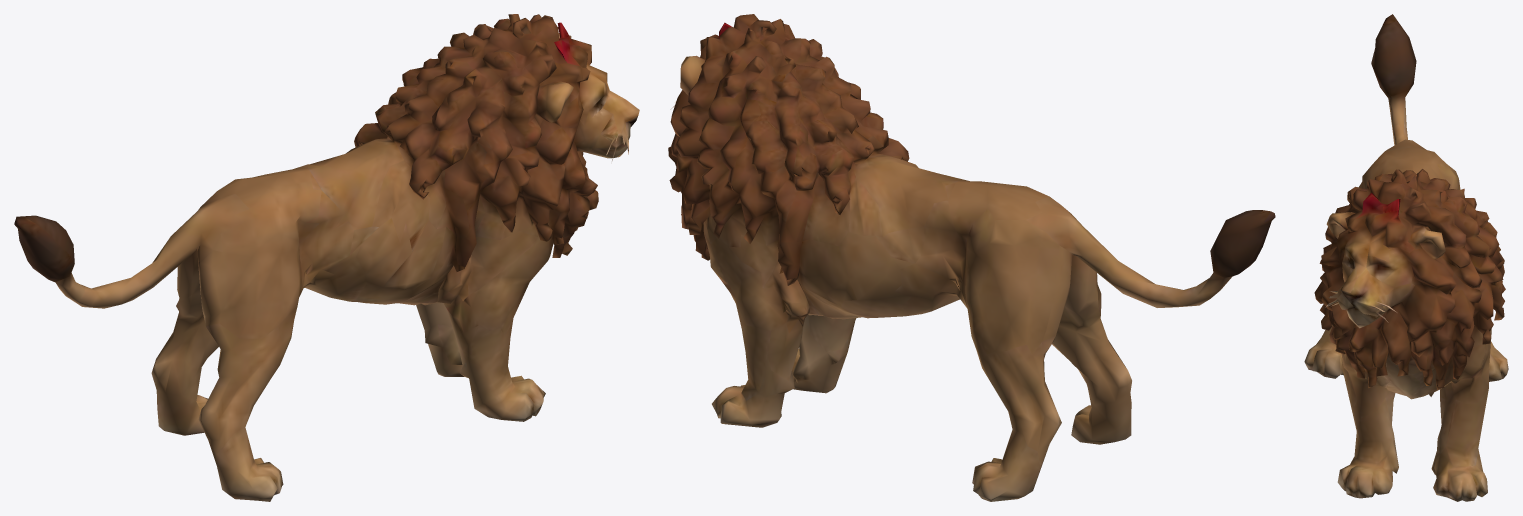
File: COWARDLION-lo.glb
3 views of the same model, side by side, from view 1: azimuth 30°, elevation 25°; view 2: azimuth 150°, elevation 25°; view 3: azimuth 270°, elevation 25° (orthographic). The views are drawn at different scales.
Parts seen in each view (by area): view 1: tripo_node_b8eeb42a-221f-4d1e-a245-52b2717225c3; view 2: tripo_node_b8eeb42a-221f-4d1e-a245-52b2717225c3; view 3: tripo_node_b8eeb42a-221f-4d1e-a245-52b2717225c3.
Boxes of the visible parts, x1,y1,x2,y2 form: tripo_node_b8eeb42a-221f-4d1e-a245-52b2717225c3: [14, 14, 639, 501]; tripo_node_b8eeb42a-221f-4d1e-a245-52b2717225c3: [668, 14, 1275, 501]; tripo_node_b8eeb42a-221f-4d1e-a245-52b2717225c3: [1304, 14, 1508, 501].
Size of the model in its own units: 1.71 by 0.9949 by 0.5597.
Materials: 1 (1 with a texture image).
